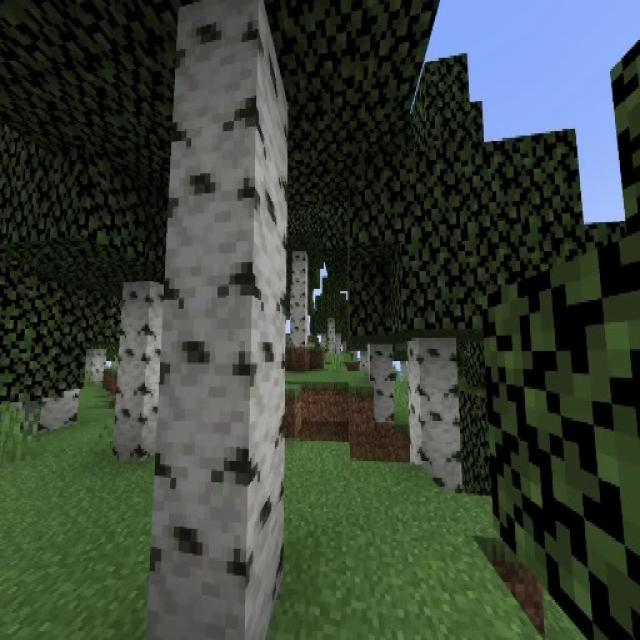birch: (348, 56, 561, 493), (55, 146, 210, 456), (330, 204, 438, 427), (260, 184, 338, 346), (309, 280, 356, 352)
birch_log: (410, 339, 462, 491), (117, 284, 159, 451), (22, 372, 80, 430), (371, 346, 395, 430), (289, 256, 308, 345), (86, 350, 107, 387), (328, 320, 335, 352)
